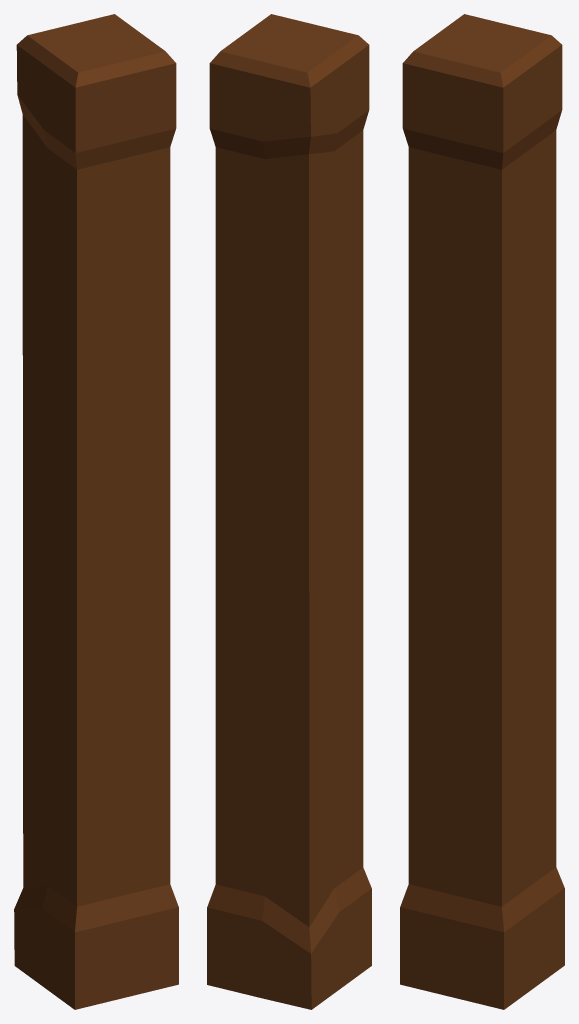
The model's file is g_o_OfficeWallCorner270.fbx.
3 views of the same model, side by side, from view 1: azimuth 30°, elevation 25°; view 2: azimuth 150°, elevation 25°; view 3: azimuth 330°, elevation 25° (orthographic).
Parts seen in each view (by area): view 1: g_o_OfficeWallCorner270; view 2: g_o_OfficeWallCorner270; view 3: g_o_OfficeWallCorner270.
Boxes of the visible parts, box(x1,y1,x2,y2) form: g_o_OfficeWallCorner270: box(14, 14, 178, 1009); g_o_OfficeWallCorner270: box(207, 14, 371, 1009); g_o_OfficeWallCorner270: box(400, 14, 564, 1009).
Size of the model in its own units: 0.2198 by 1.88 by 0.2223.
